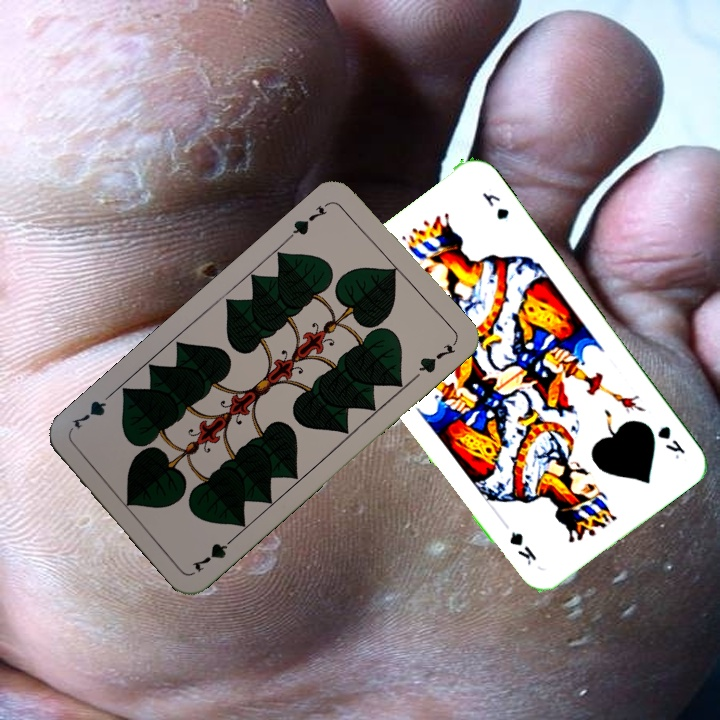G7: (188, 531, 240, 576), (284, 198, 333, 241)
GK: (653, 422, 688, 462)
